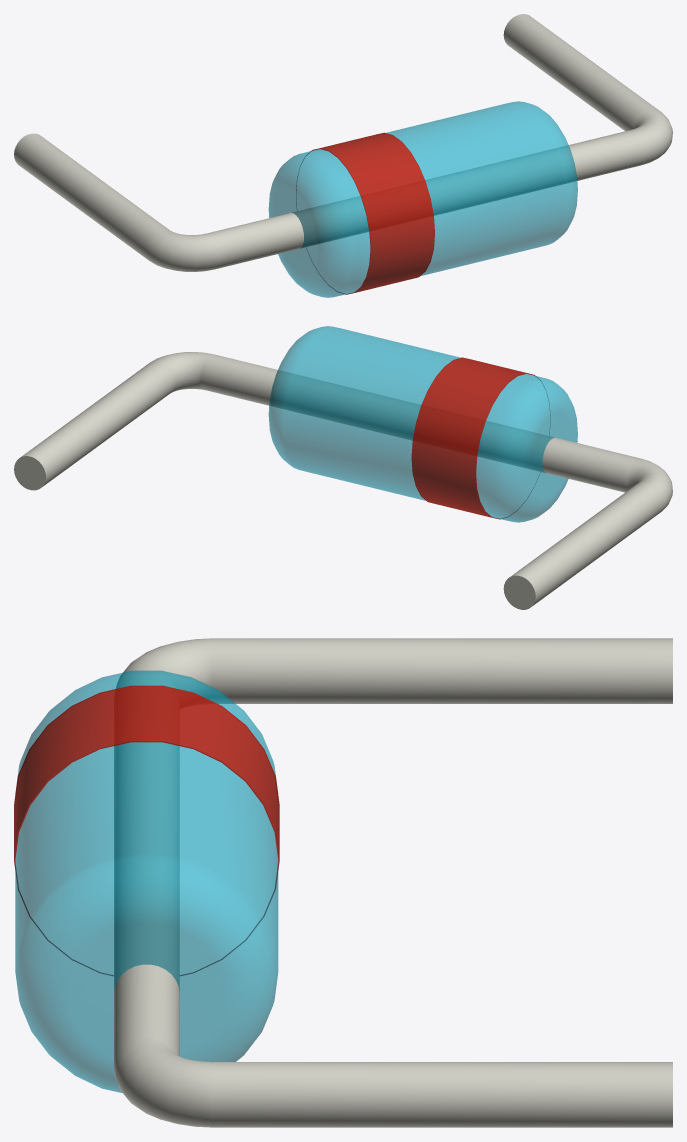
File: d-do-35-sod27-p7.62-h.glb
The picture shows the model from 3 angles, top to bottom: view 1: azimuth 30°, elevation 25°; view 2: azimuth 150°, elevation 25°; view 3: azimuth 270°, elevation 25°; orthographic projection. The views are drawn at different scales.
Parts seen in each view (by area): view 1: GLASS-13, PIN-01, LED-RED; view 2: GLASS-13, PIN-01, LED-RED; view 3: PIN-01, GLASS-13, LED-RED.
Part boxes in pixels (<box>): GLASS-13: <box>268,101,577,297</box>; PIN-01: <box>14,14,672,271</box>; LED-RED: <box>296,132,434,294</box>; GLASS-13: <box>268,326,577,522</box>; PIN-01: <box>14,352,672,609</box>; LED-RED: <box>411,357,550,519</box>; PIN-01: <box>114,638,672,1127</box>; GLASS-13: <box>15,670,278,1092</box>; LED-RED: <box>14,685,279,975</box>.
Size of the model in its own units: 8.12 by 2.01 by 5.01.
